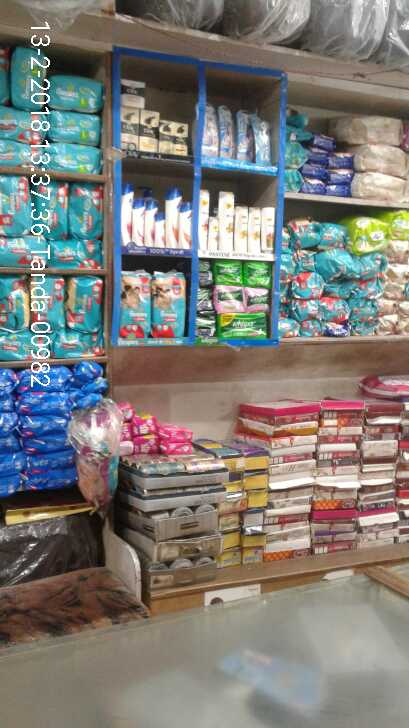venus: (237, 112, 256, 161), (206, 101, 220, 156), (220, 112, 237, 156), (256, 116, 270, 161)
